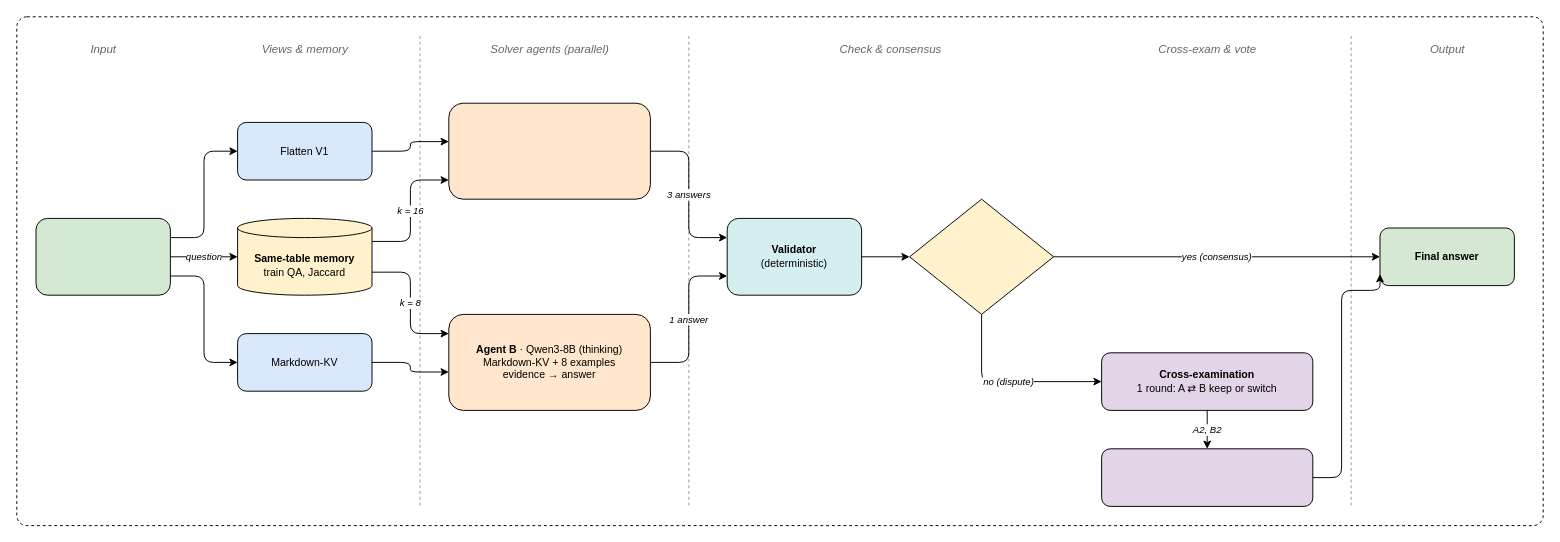
Image size: 1560x542. Some labels were removed from this diagram. Here are the shapes that lost their labels. From the top down, the centre of each, then its label:
(x=549, y=150): Agent A · Qwen3-8B (thinking) Flatten V1 + 16 examples 3 samples, T = 0.7
(x=102, y=256): Question + HTML table
(x=981, y=256): ≥ 3/4 votes agree?
(x=1207, y=477): Final vote {A2, B2, A×3, B}, tie → A2
